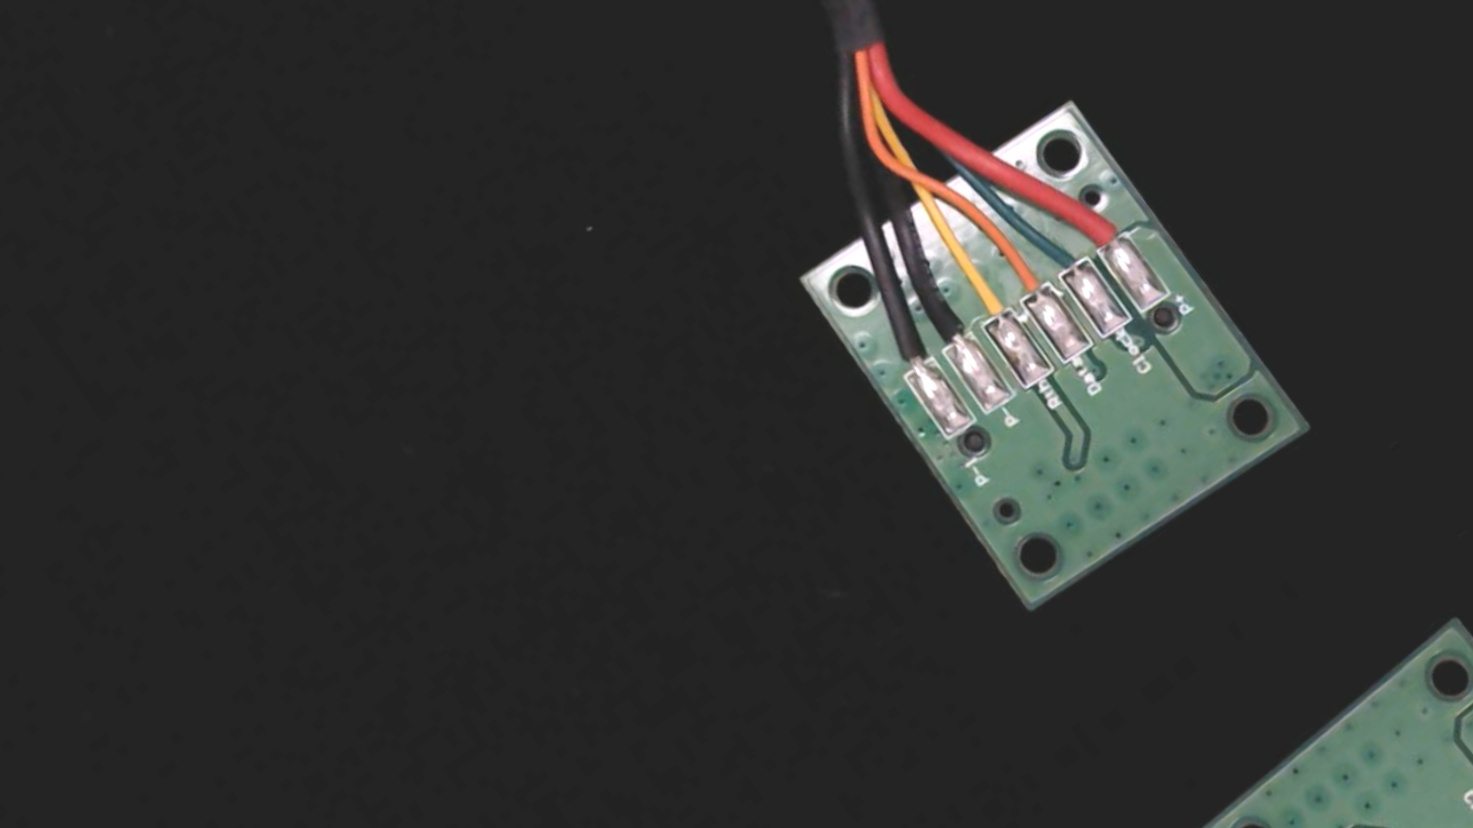Black: (908, 286, 985, 366)
Black1: (877, 324, 946, 396)
Green: (1030, 221, 1098, 289)
Orange: (983, 234, 1060, 317)
Red: (1061, 187, 1135, 265)
Yellow: (946, 252, 1029, 342)
